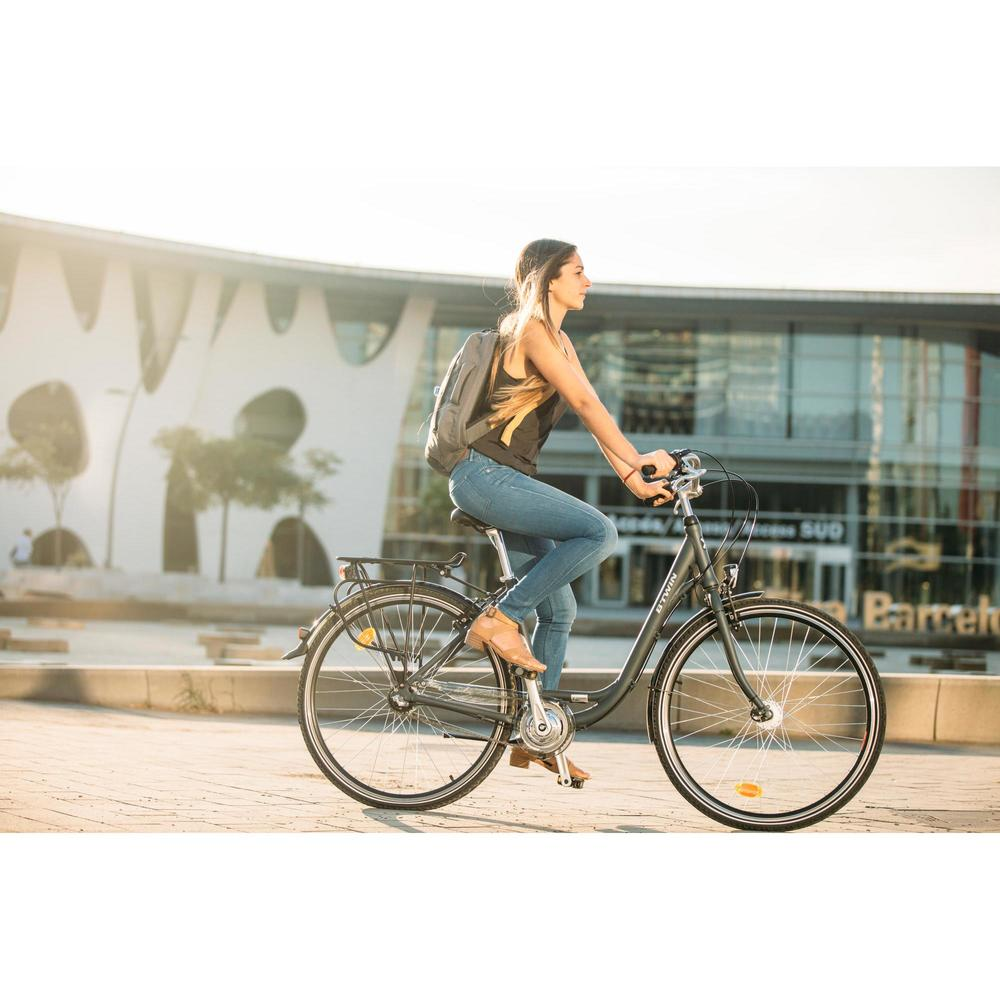UrbanBike: (267, 452, 905, 828)
